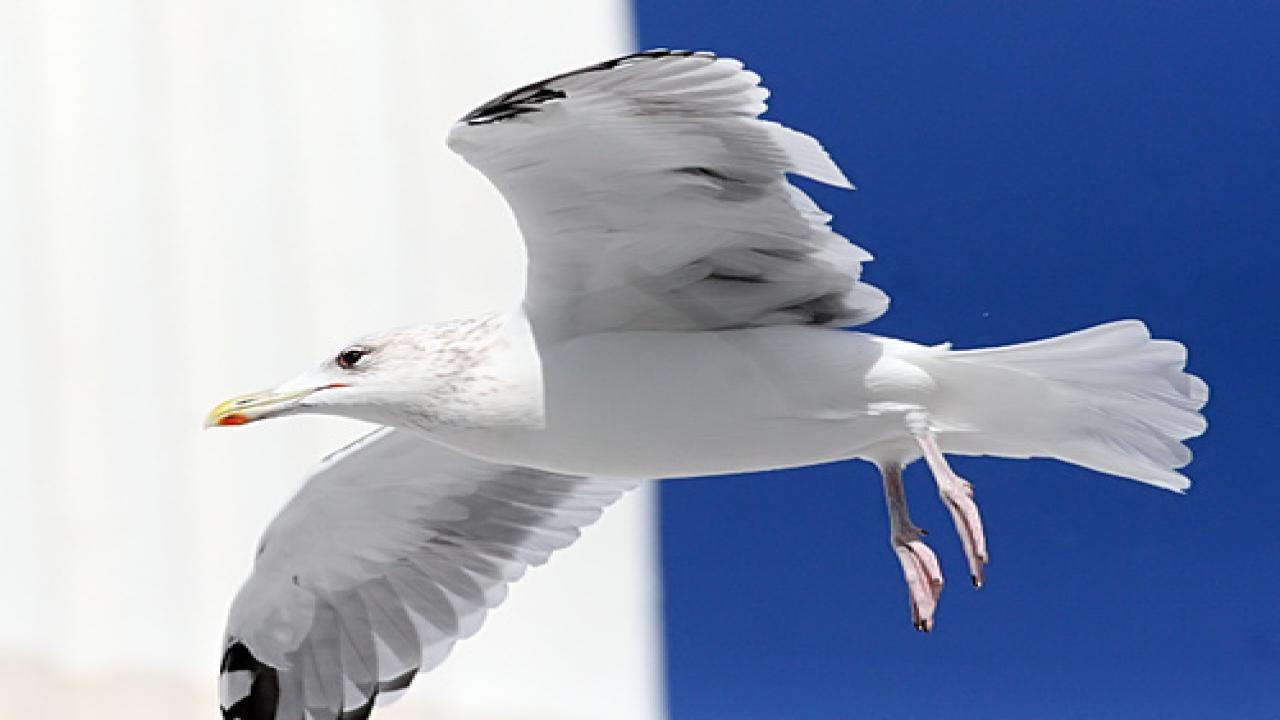Bird: (192, 36, 1223, 720)
